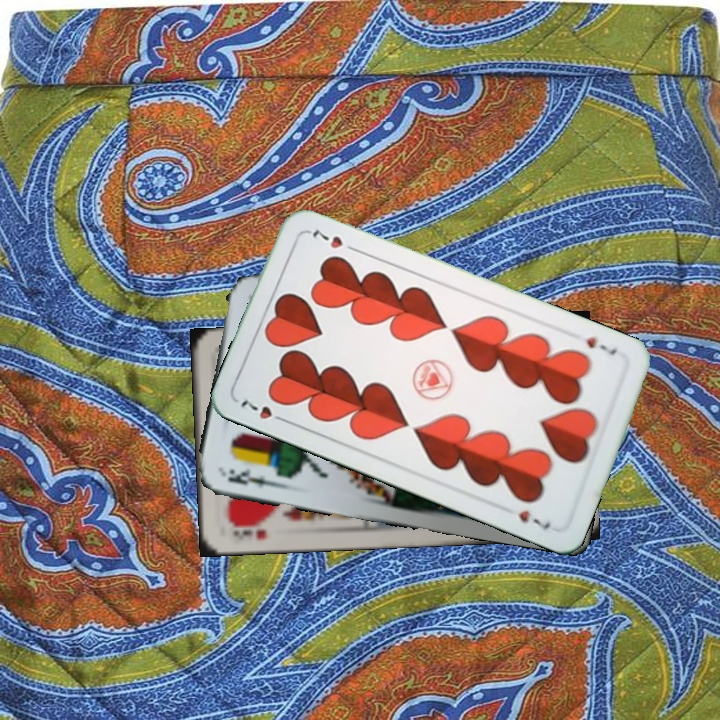EK: (220, 465, 279, 490)
H7: (236, 396, 291, 426), (582, 333, 620, 358)
HK: (228, 518, 270, 542)
